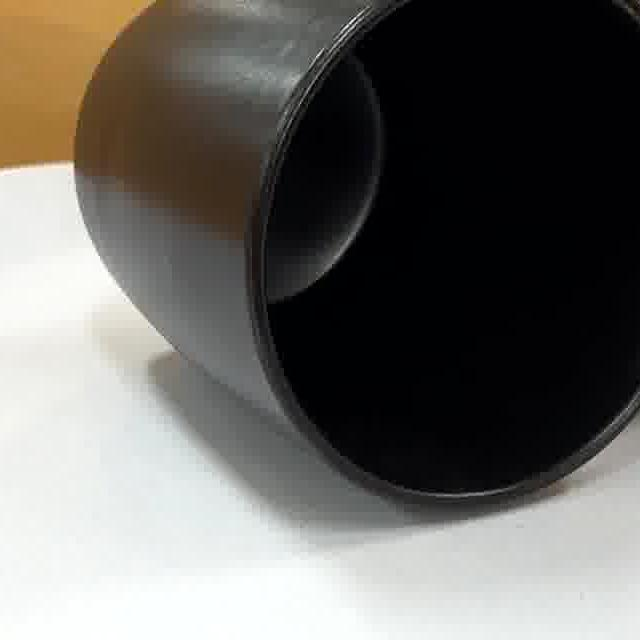cup: (100, 0, 640, 513)
